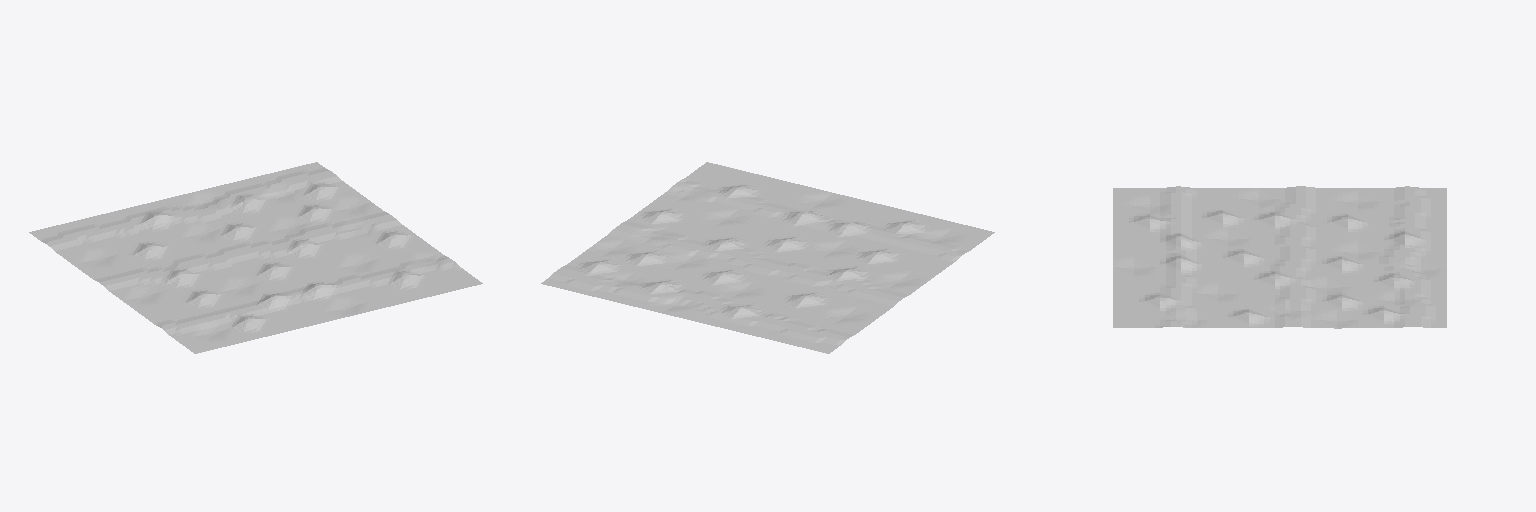
The model's file is lake11.obj.
3 views of the same model, side by side, from view 1: azimuth 30°, elevation 25°; view 2: azimuth 150°, elevation 25°; view 3: azimuth 270°, elevation 25° (orthographic).
Visible parts, largest first — view 1: lake.003; view 2: lake.003; view 3: lake.003.
Part boxes in pixels (x1,y1,x2,y2): lake.003: (29,162,482,353); lake.003: (541,162,994,353); lake.003: (1113,186,1446,328).
Bounding box in the file's own units: 332 × 7.48 × 332.